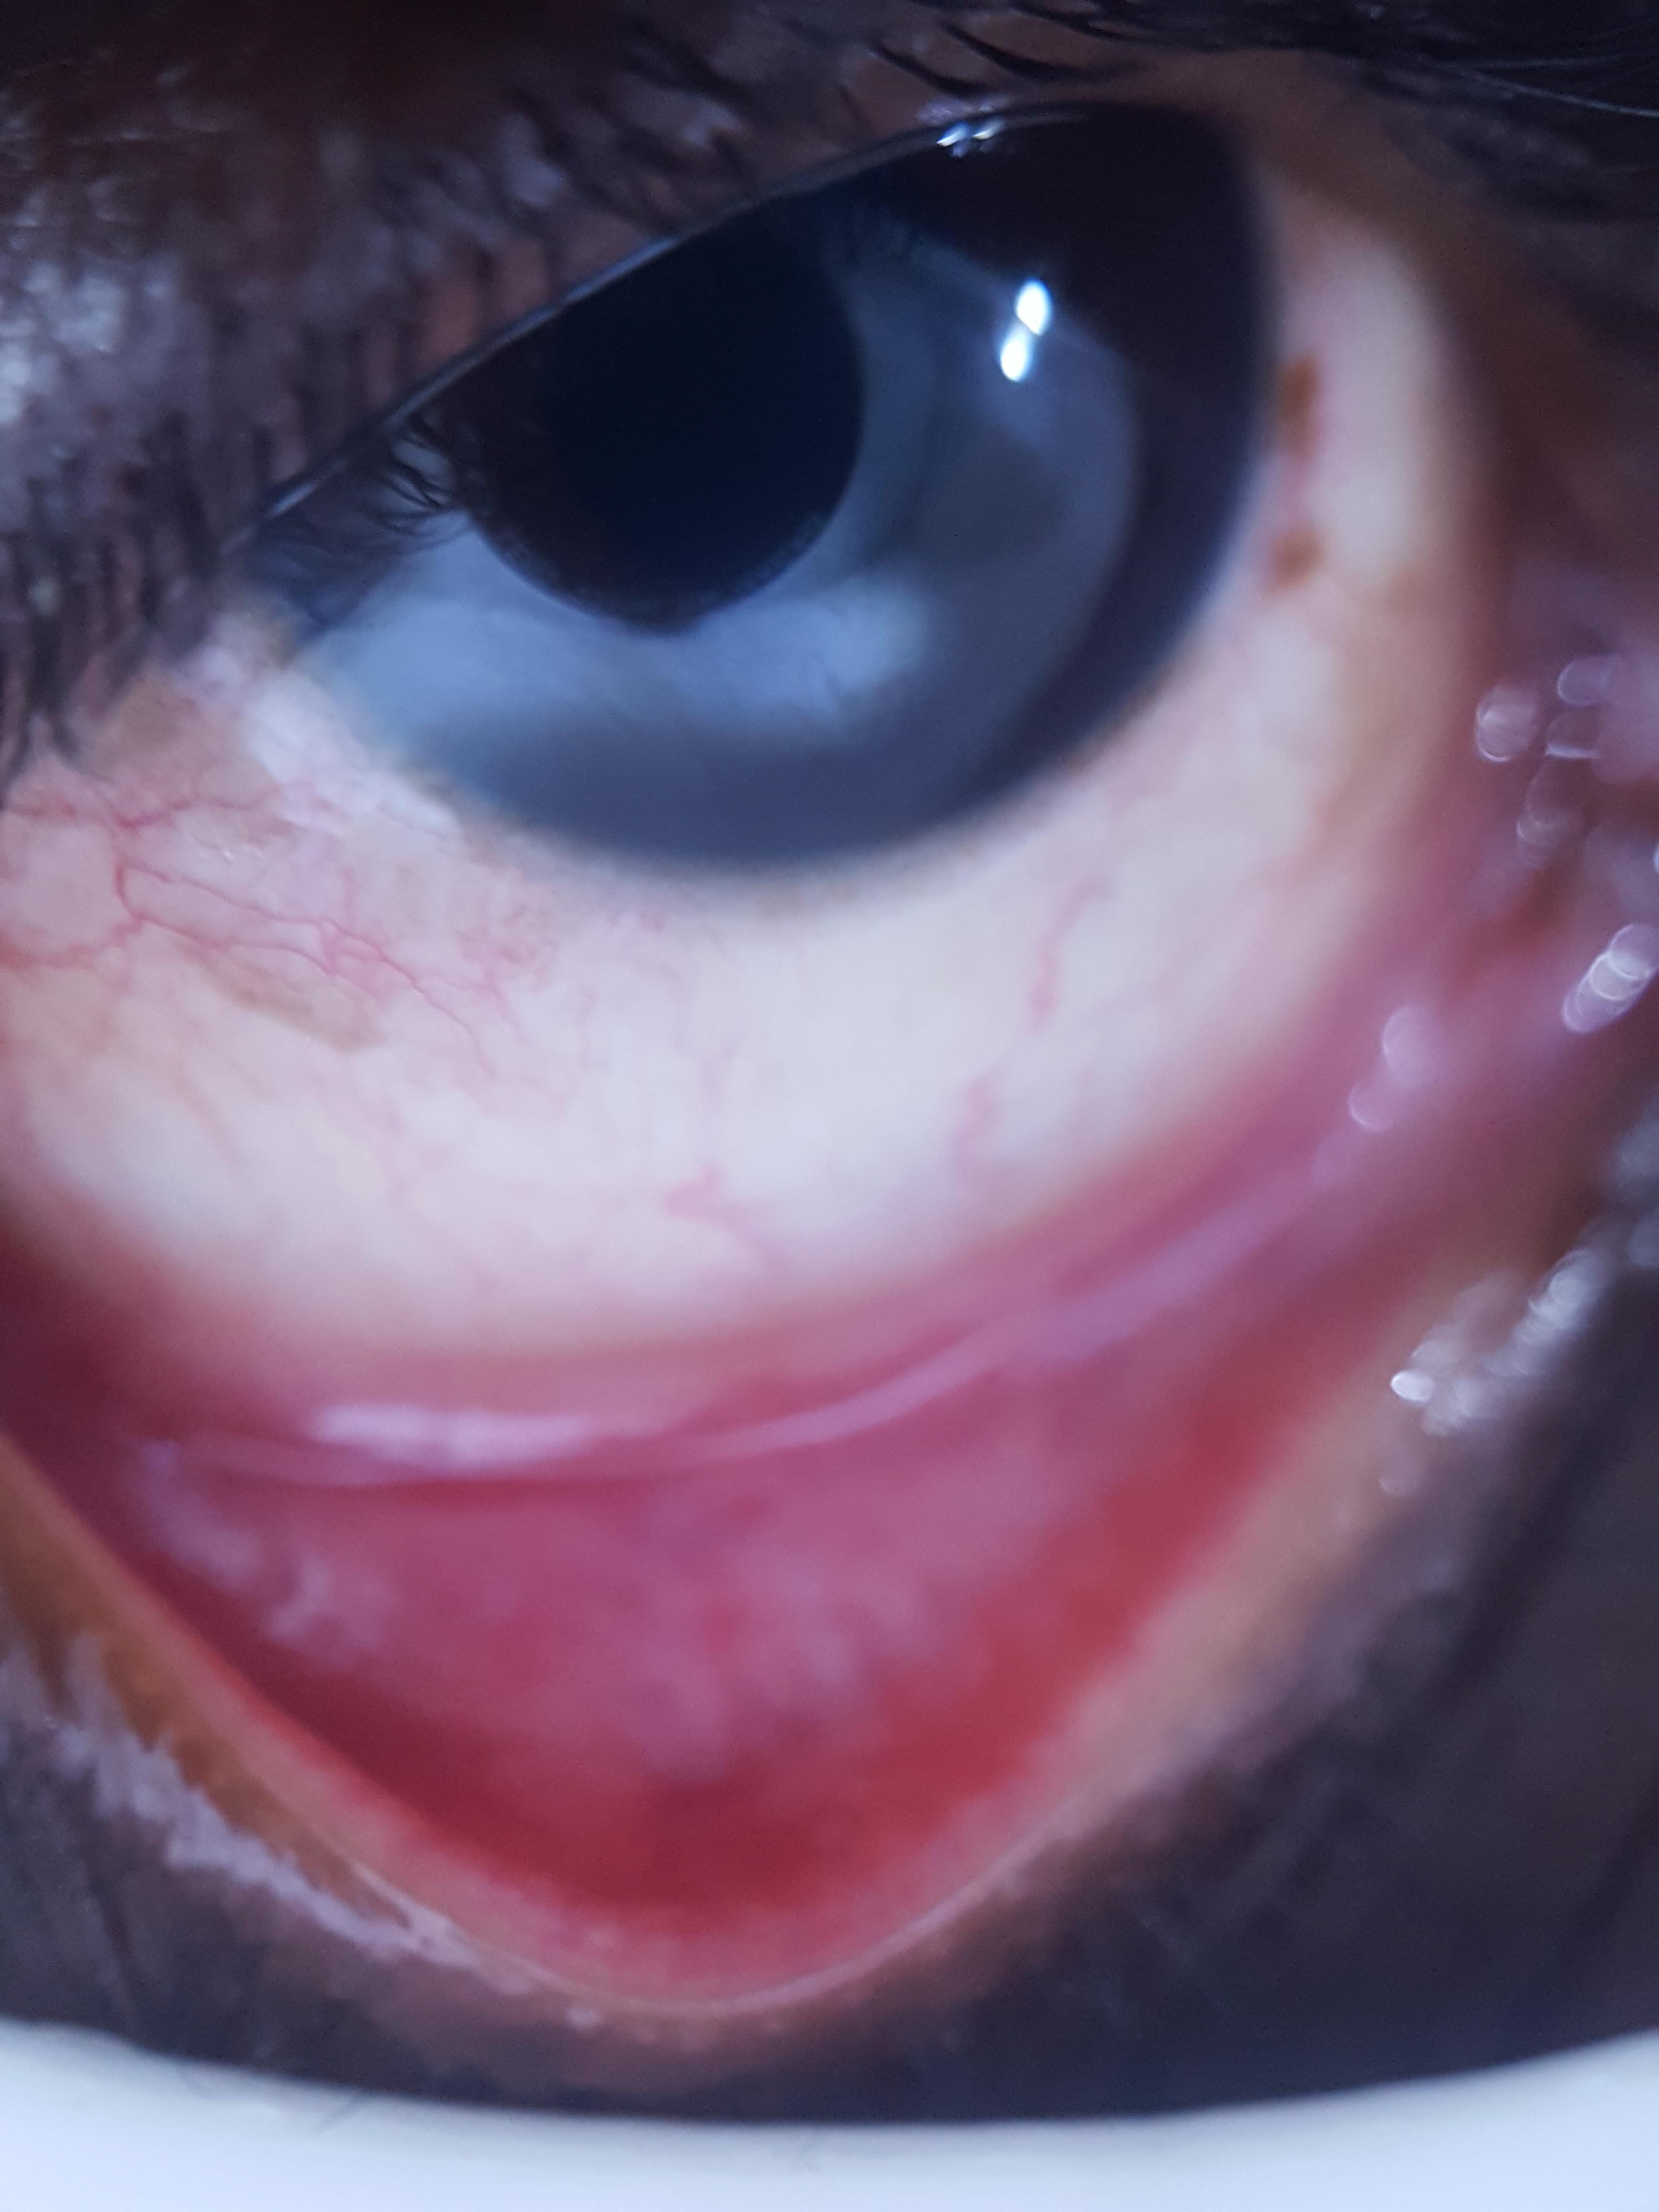forniceal: (98, 934, 1490, 1777)
forniceal_palpebral: (0, 906, 1558, 1965)
palpebral: (9, 1116, 1530, 1939)
